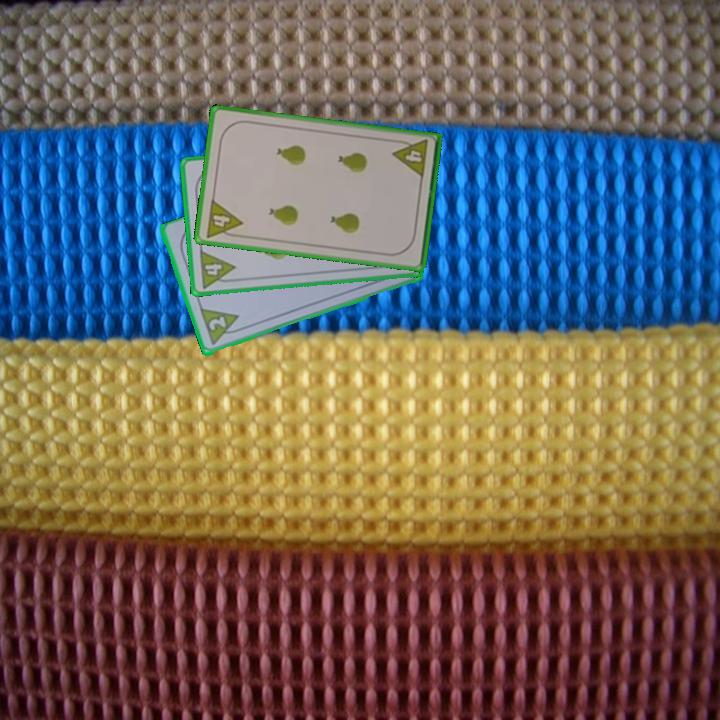2p: (196, 305, 246, 349)
4p: (202, 196, 245, 241), (196, 247, 239, 291), (390, 136, 431, 181)
